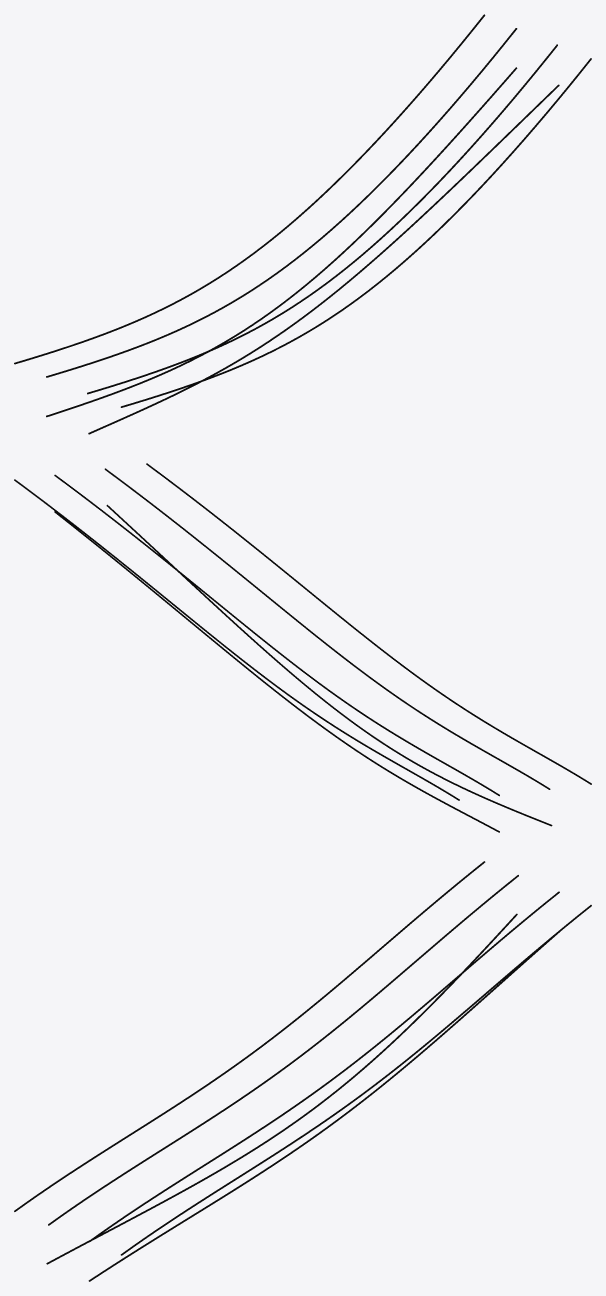
The model's file is cable_black_(all)_(matte)_0.001_lev3.glb.
3 renders of one model, top to bottom at view 1: azimuth 90°, elevation 25°; view 2: azimuth 150°, elevation 25°; view 3: azimuth 270°, elevation 25°, orthographic. The views are drawn at different scales.
Visible parts, largest first — view 1: cable_black_(all)_(matte)_0.001_lev3; view 2: cable_black_(all)_(matte)_0.001_lev3; view 3: cable_black_(all)_(matte)_0.001_lev3.
Boxes of the visible parts, x1,y1,x2,y2 form: cable_black_(all)_(matte)_0.001_lev3: (14, 14, 591, 434); cable_black_(all)_(matte)_0.001_lev3: (14, 463, 591, 832); cable_black_(all)_(matte)_0.001_lev3: (14, 861, 591, 1281).
Bounding box in the file's own units: 10.38 × 1.04 × 6.46.
1 material, 1 textured.
